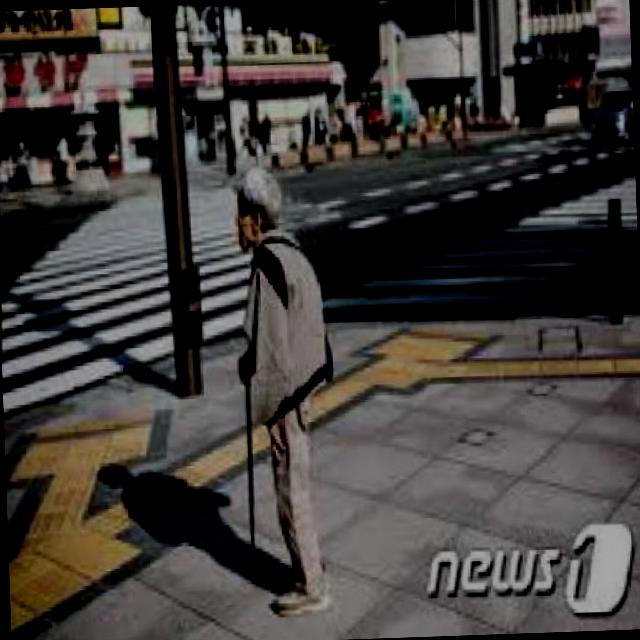Person: (227, 166, 343, 623)
